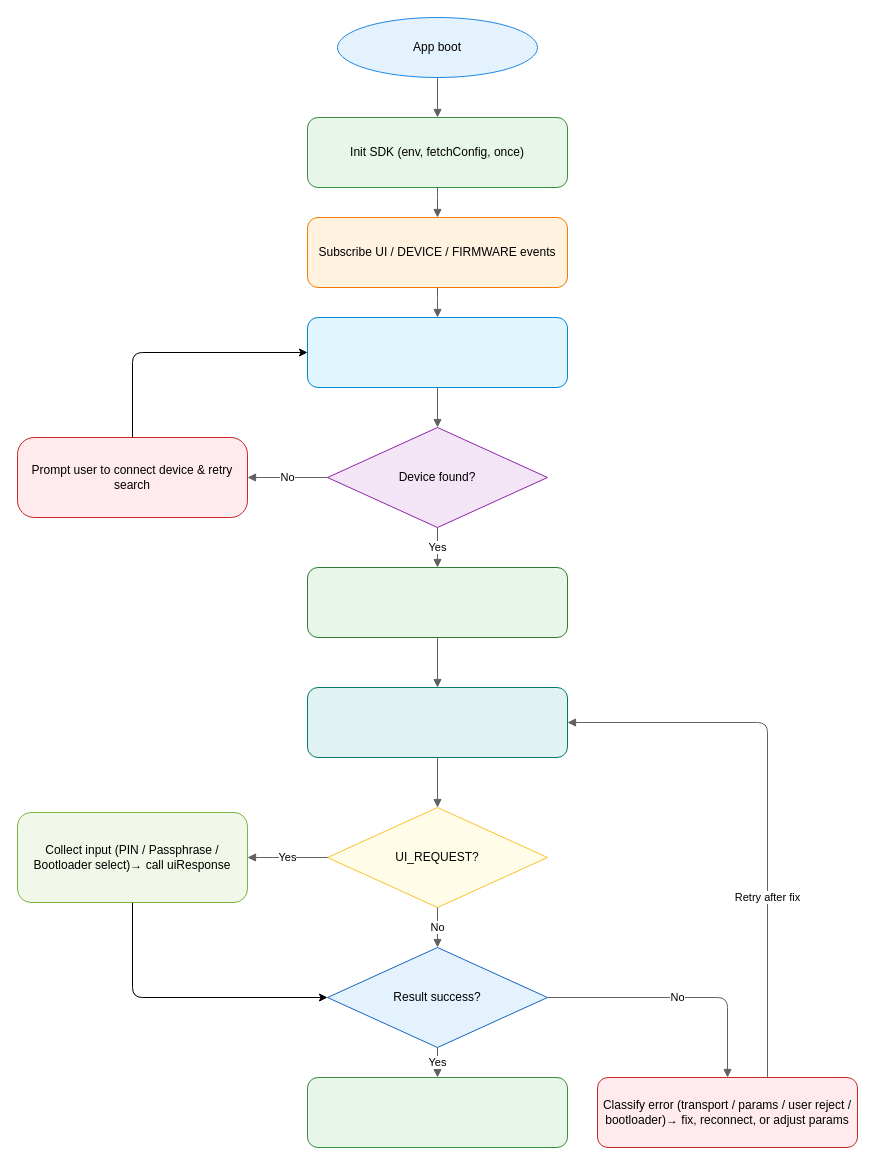
The diagram is 875 pixels wide and 1165 high, and some of its shapes have lost their labels. The centre of each missing label's shape, as x and y in pixels:
Consume payload / render to user: (437,1112)
getFeatures → deviceId (cache with connectId): (437,602)
Make Core API call(connectId + deviceId + params): (437,722)
searchDevices → connectId: (437,352)
